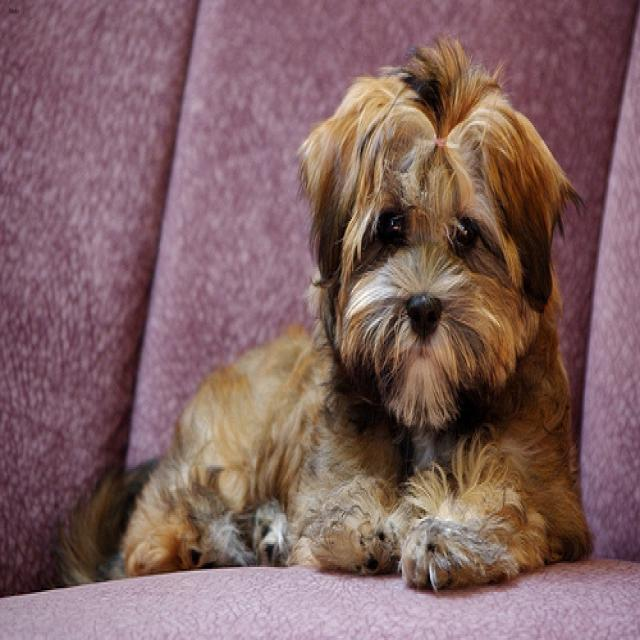dog-havanese: (49, 29, 600, 600)
